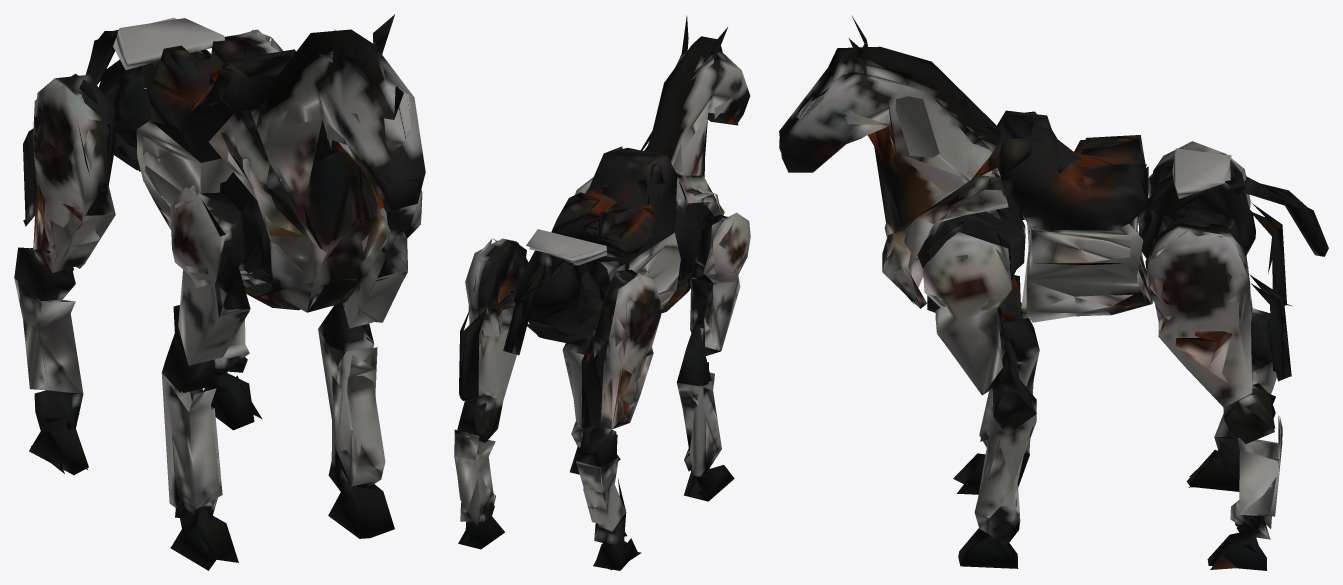
File: detail_13_lo2.glb
3 renders of one model, left to right at view 1: azimuth 30°, elevation 25°; view 2: azimuth 150°, elevation 25°; view 3: azimuth 270°, elevation 25°, orthographic. The views are drawn at different scales.
Parts seen in each view (by area): view 1: Mesh_0.001; view 2: Mesh_0.001; view 3: Mesh_0.001.
Boxes of the visible parts, <box> form: Mesh_0.001: <box>14,14,425,570</box>; Mesh_0.001: <box>454,15,750,570</box>; Mesh_0.001: <box>779,15,1328,570</box>.
Size of the model in its own units: 0.4163 by 0.9899 by 0.9795.
Materials: 1 (1 with a texture image).
